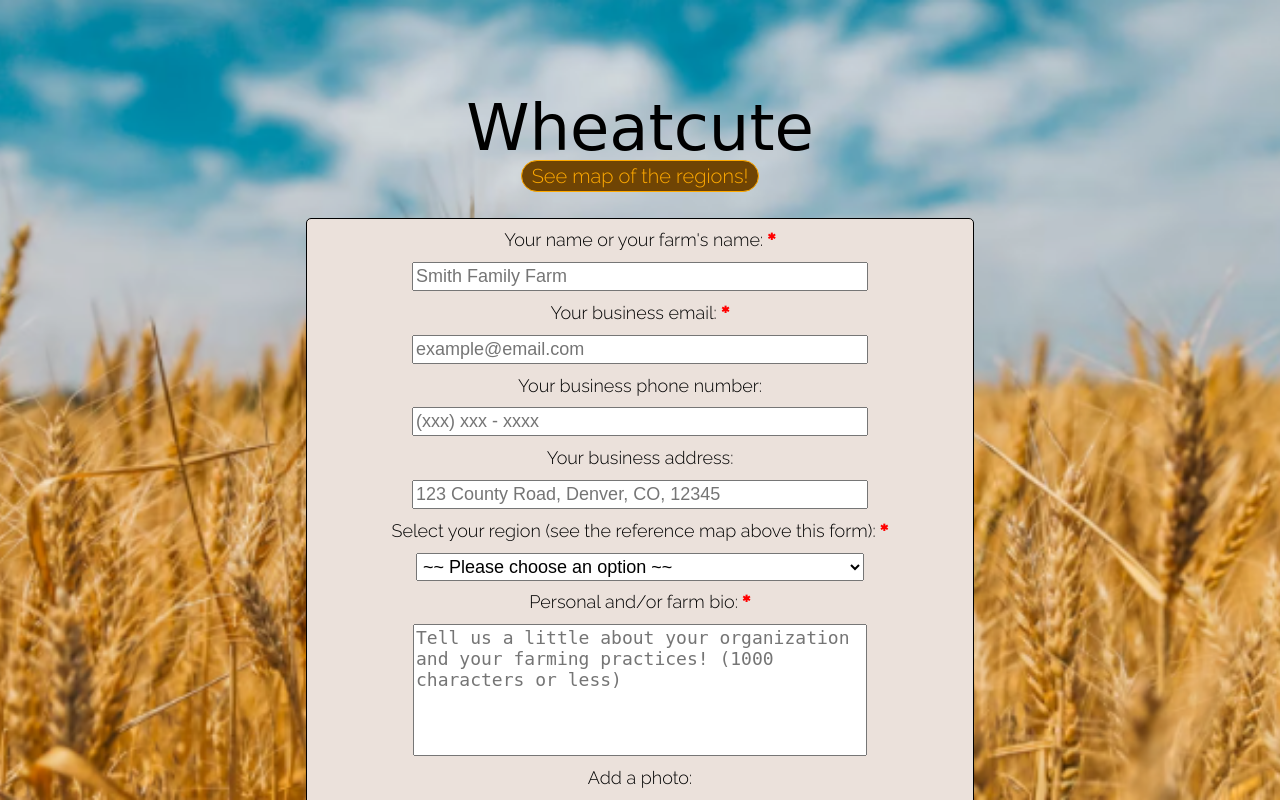
pop up modal with regions map › should be able to open a pop up modal
This screenshot has width=1280, height=800.
Click the button "See map of the regions!" at (641, 176), box [521,160,760,192]
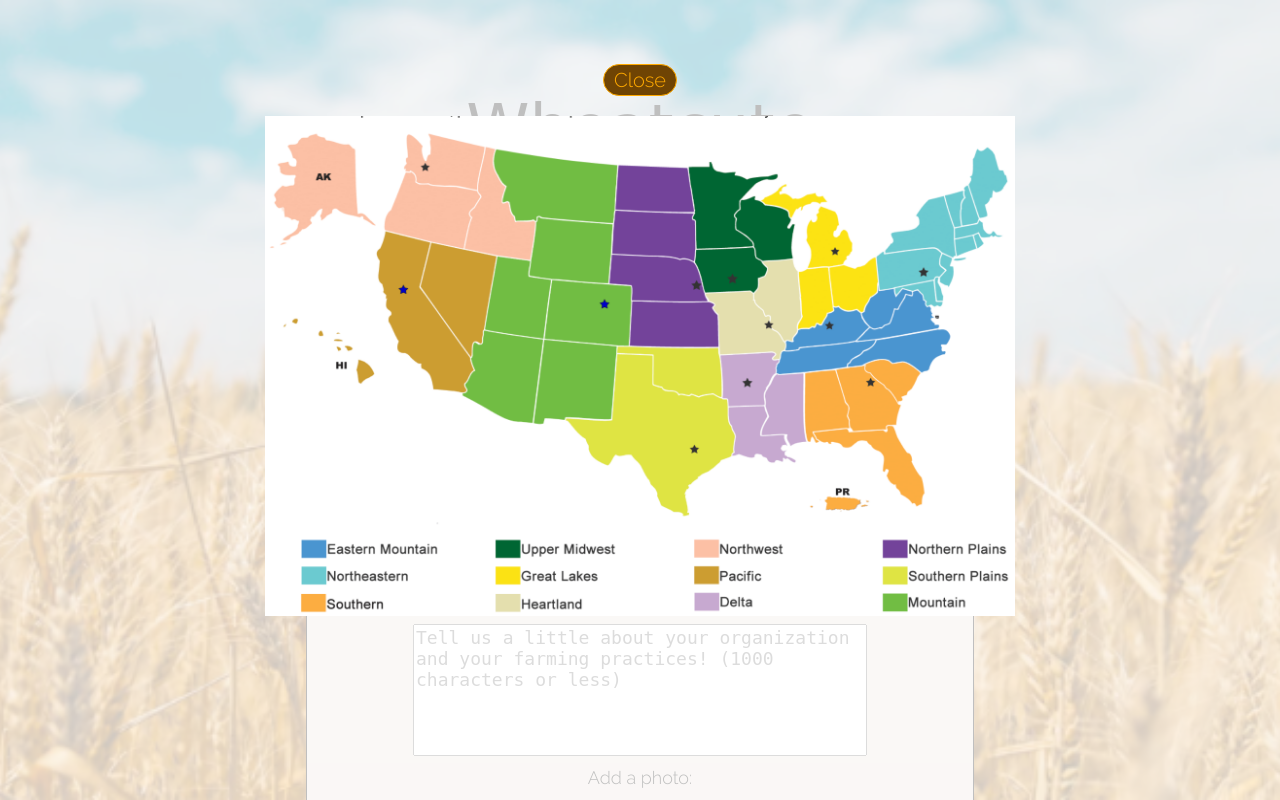
Now the dialog with class "map-modal-container" is shown, box [265,64,1015,616]
